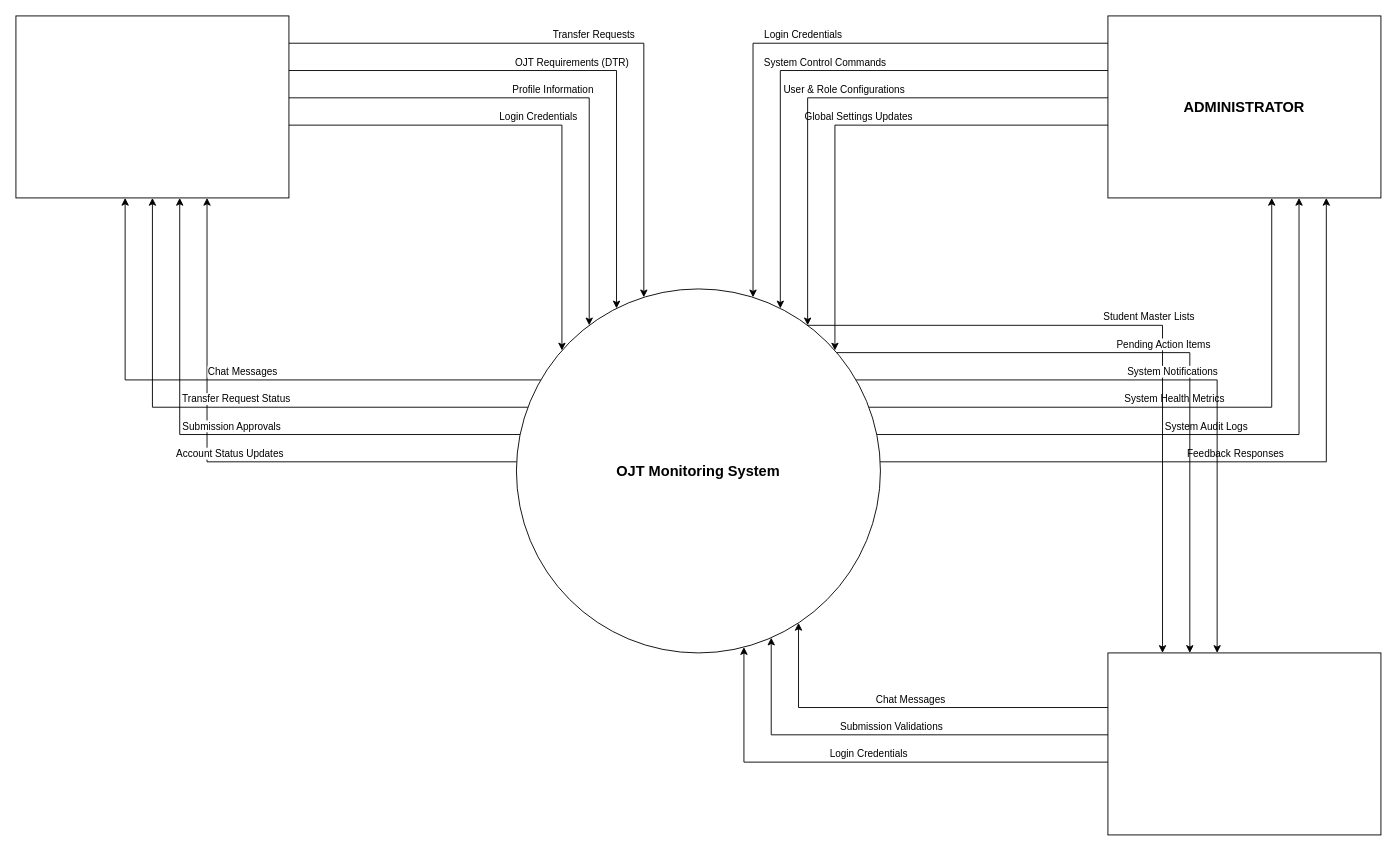
Some shapes in this 1397 by 851 pixel diagram are drawn without their labels. The shapes that lost their labels are listed below. From the top down, each one's box as (x1, y1, x2, y2) in pixels, then its label:
(15, 15, 289, 198): STUDENT
(1107, 652, 1381, 835): COORDINATOR
